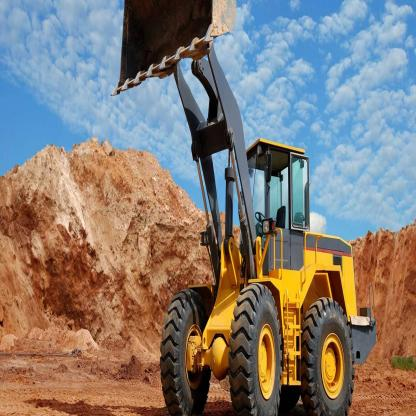bull_dozer/loader/grader: (109, 6, 378, 416)
